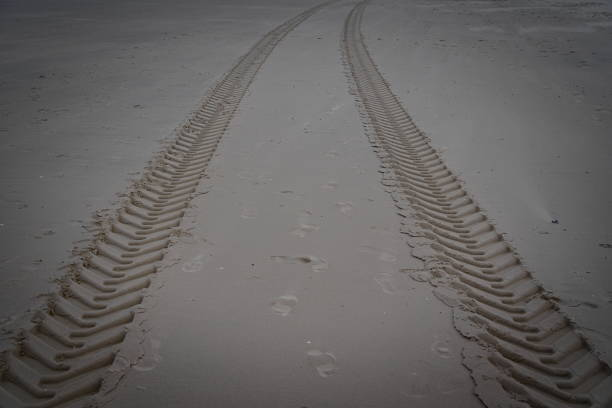vehicle_track: (0, 2, 328, 407), (341, 0, 611, 407)
